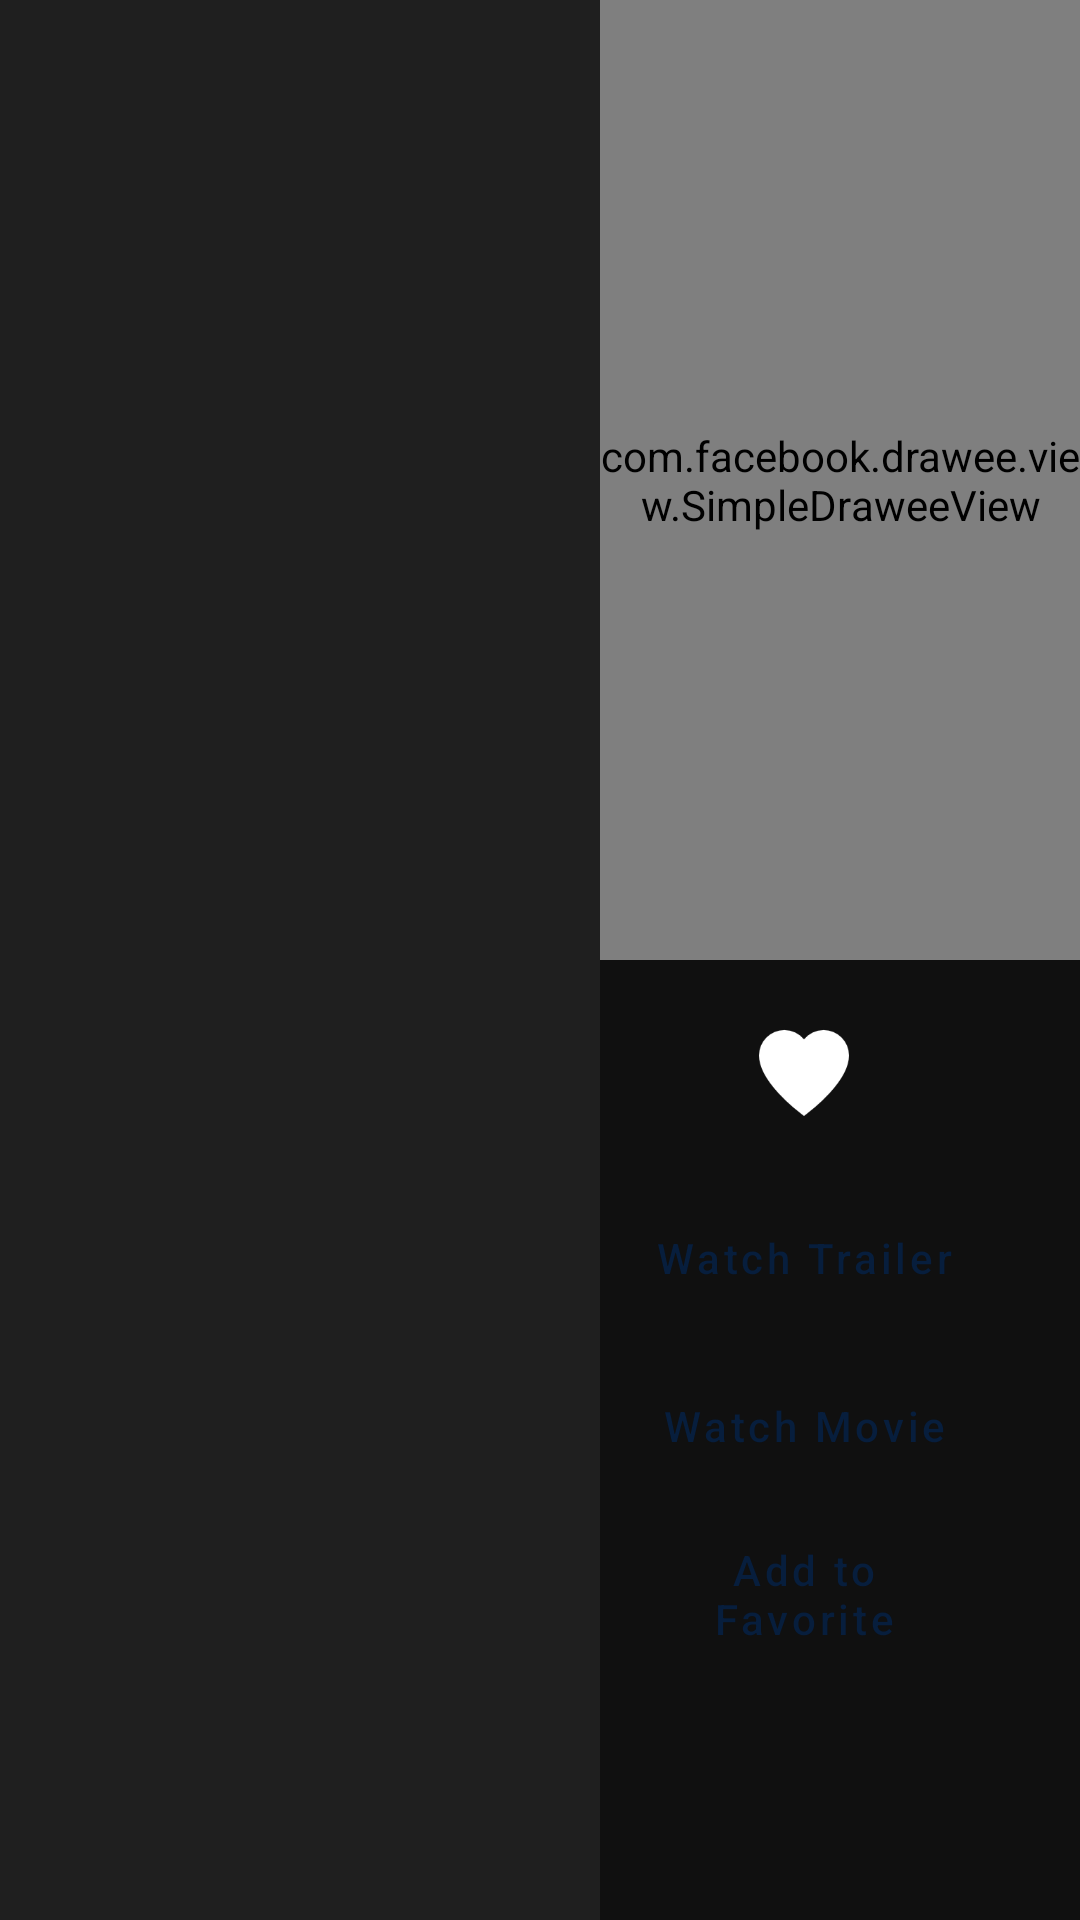

Named icons in this screenshot (1080w x 1920h) and their centers, point (x, y):
heart: point (804, 1073)
